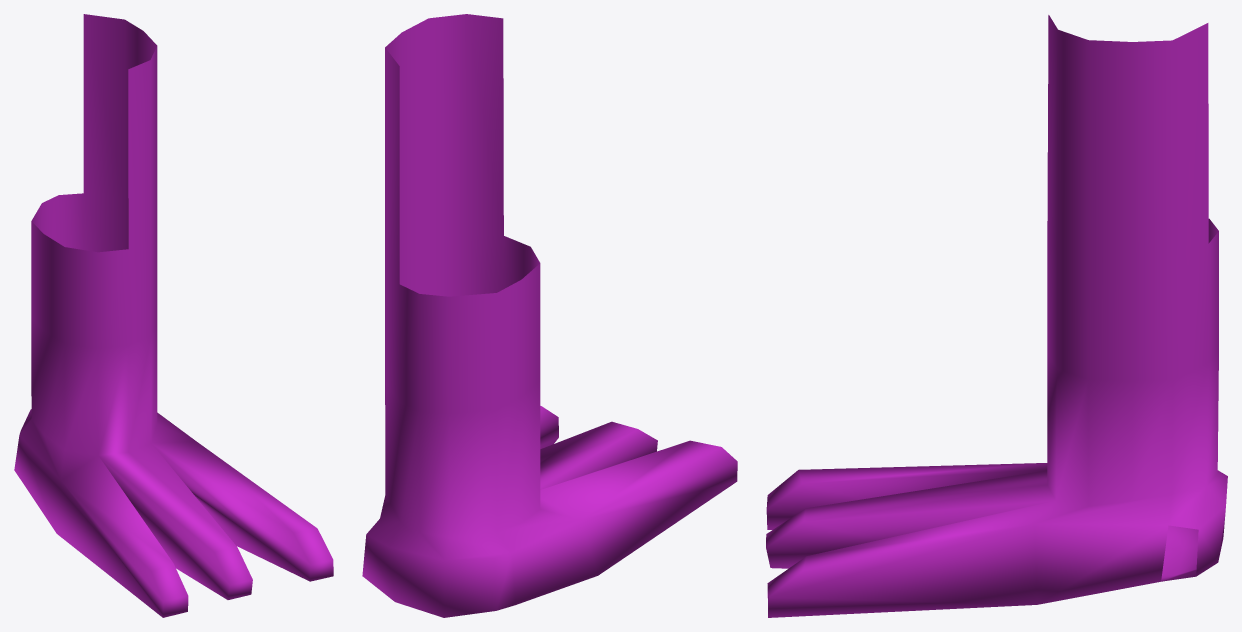
Rendered from pata2.obj.
3 renders of one model, left to right at view 1: azimuth 30°, elevation 25°; view 2: azimuth 150°, elevation 25°; view 3: azimuth 270°, elevation 25°, orthographic. The views are drawn at different scales.
Parts seen in each view (by area): view 1: Body.005; view 2: Body.005; view 3: Body.005.
Part boxes in pixels (left/top/right/bottom): Body.005: left=14, top=14, right=333, bottom=617; Body.005: left=362, top=14, right=737, bottom=617; Body.005: left=766, top=15, right=1227, bottom=617.
Bounding box in the file's own units: 0.0515 × 0.1294 × 0.0981.
